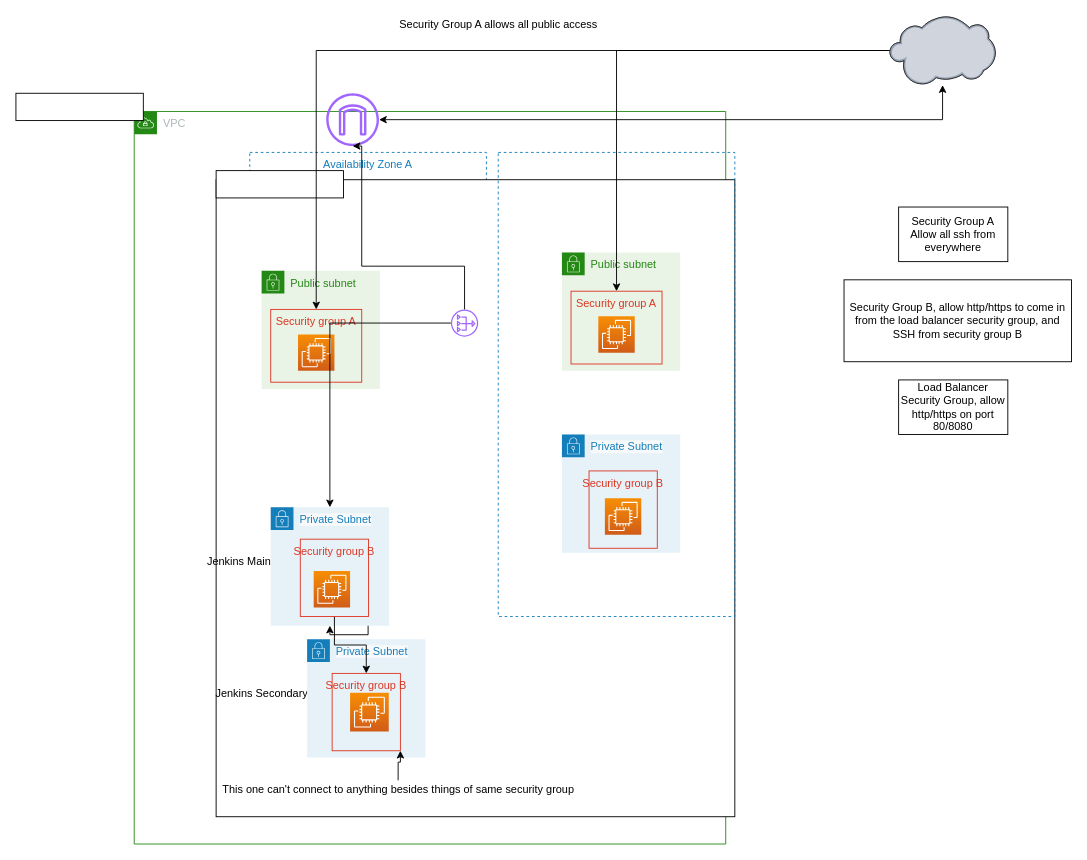
This 1087x860 diagram has some shape labels left out. The box of each missing label's shape, as (x1, y1, x2, y2) in pixels:
Availability Zone B: (497, 152, 735, 617)
Kura-vpc: (215, 170, 344, 198)
us East 2-Ohio: (15, 92, 143, 121)
us-east-1a: (215, 179, 735, 817)
